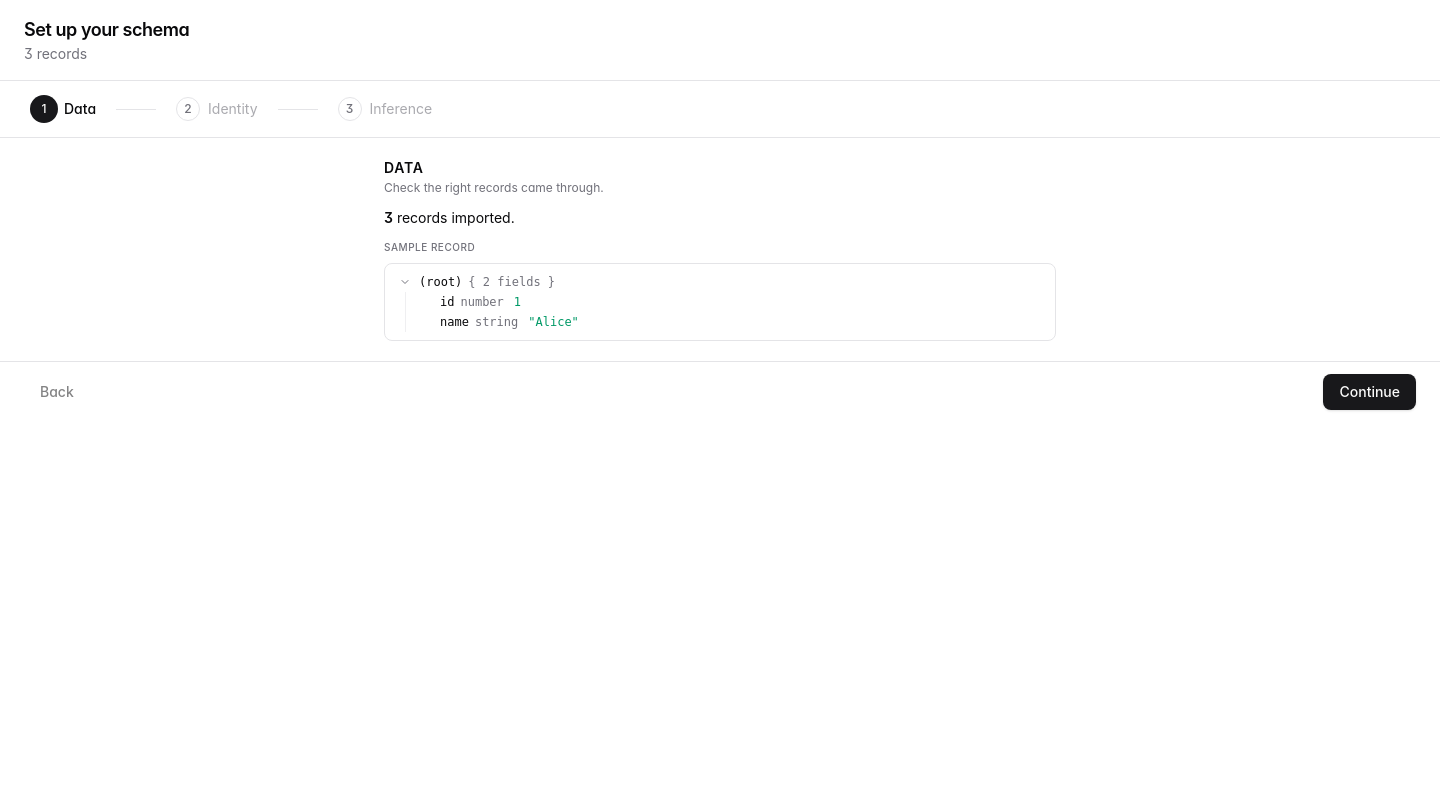
WizardHost › Z-W9: identity is seeded from the proposed key and survives navigation
This screenshot has width=1440, height=810.
Click the button "Continue" at (1370,392), box [1324,374,1416,410]
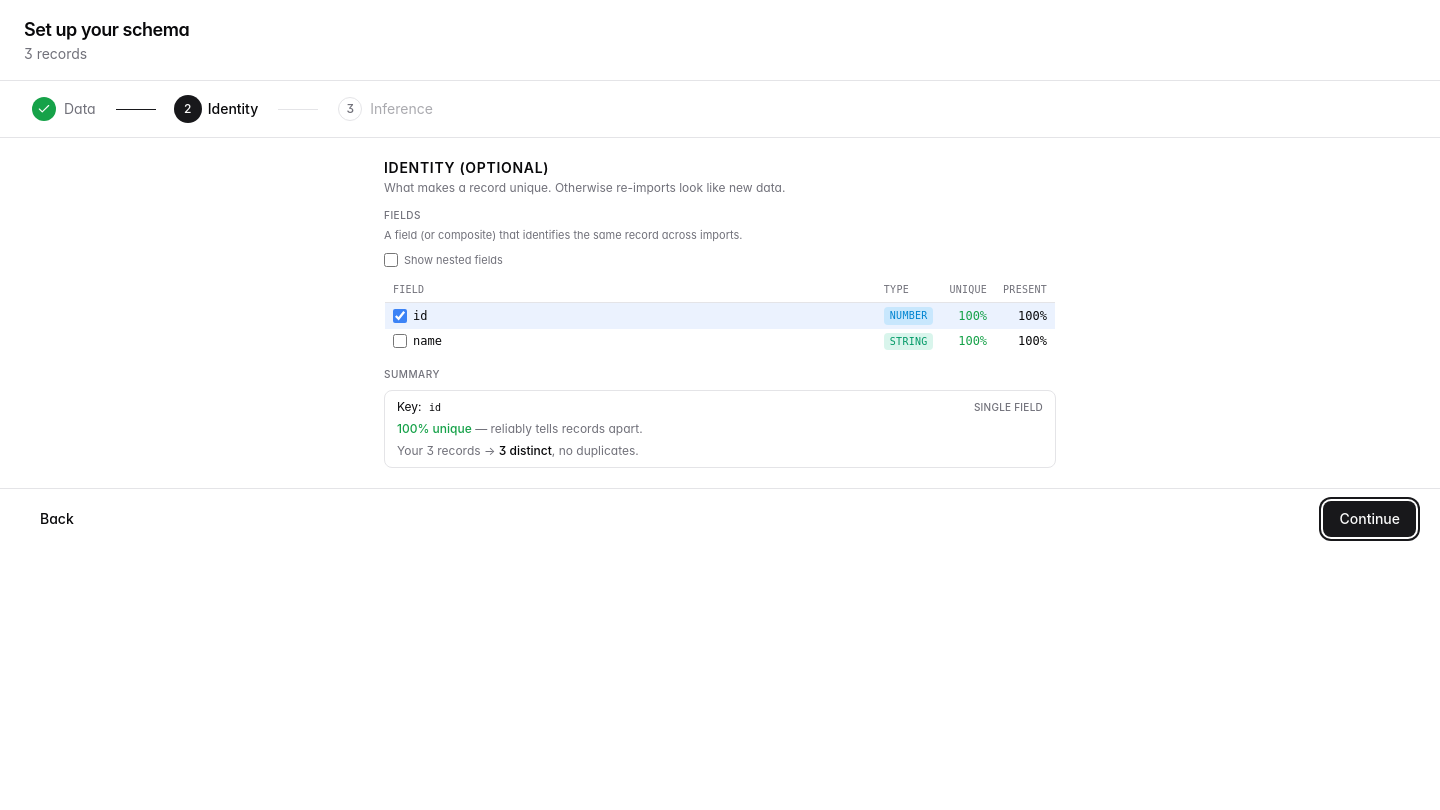
Check: the checkbox labelled "id" is checked, box [393,309,407,323]
Click the button "Continue" at (1370,519), box [1324,501,1416,537]
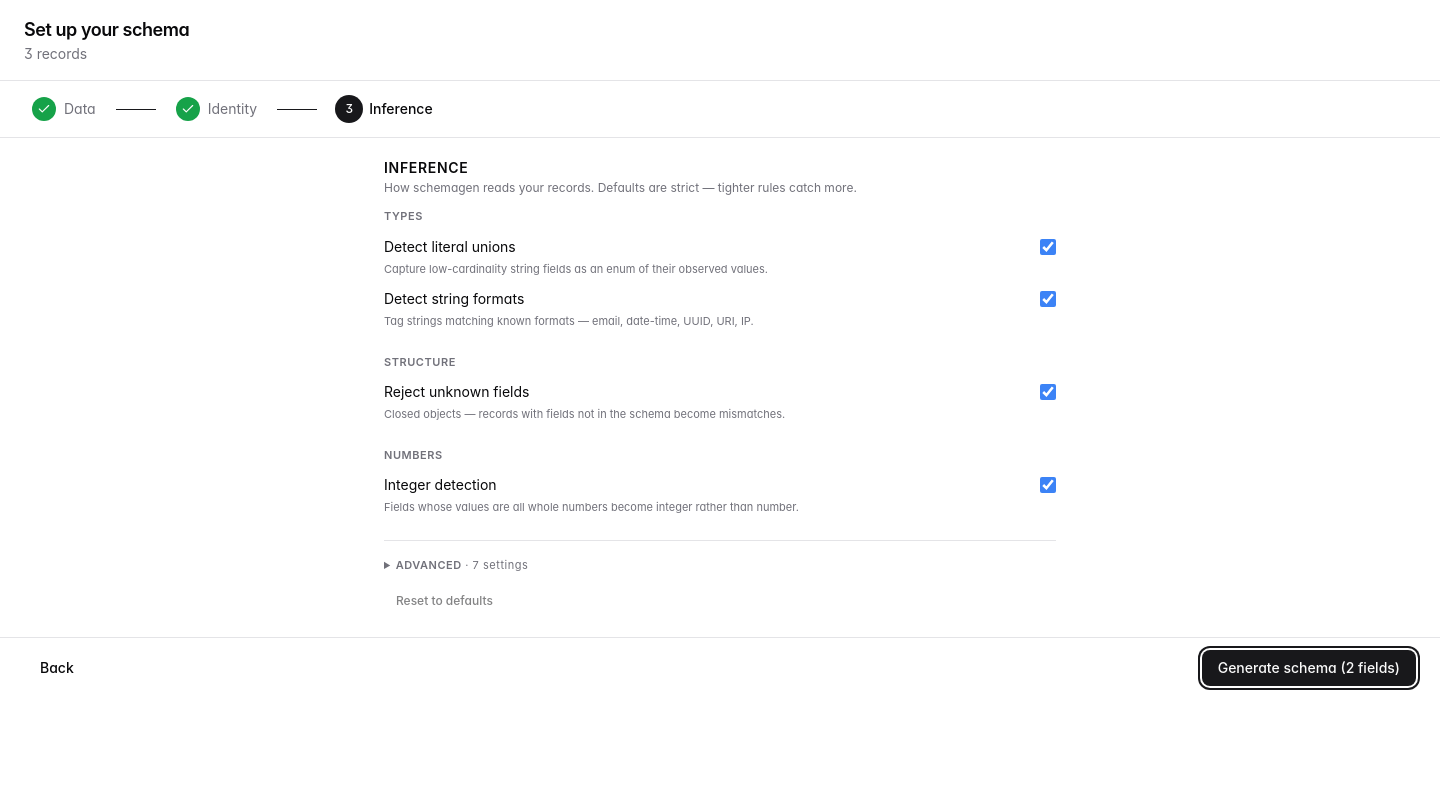
Click the button "Identity" at (216,109), box [168,93,265,125]
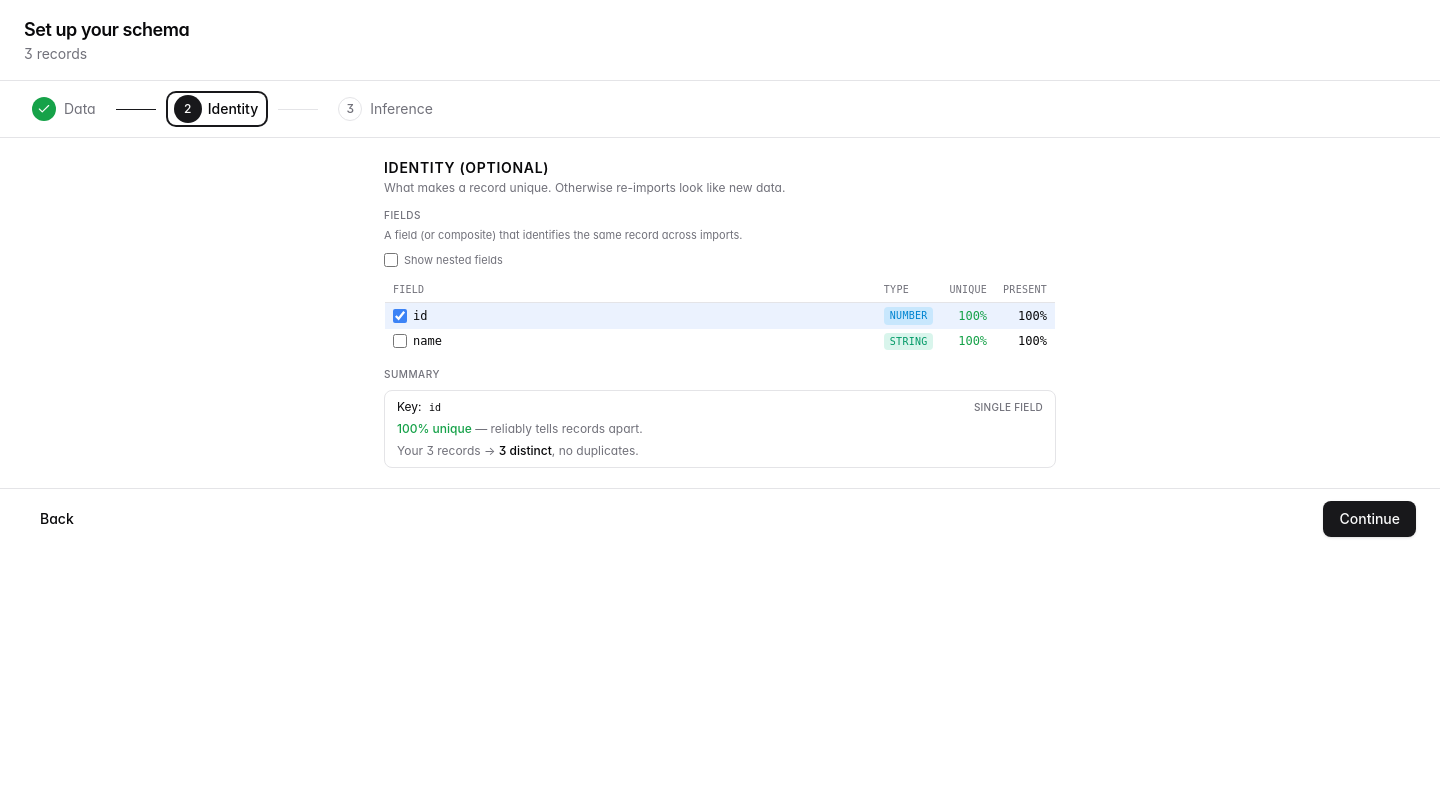
Check: the checkbox labelled "id" is checked, box [393,309,407,323]
